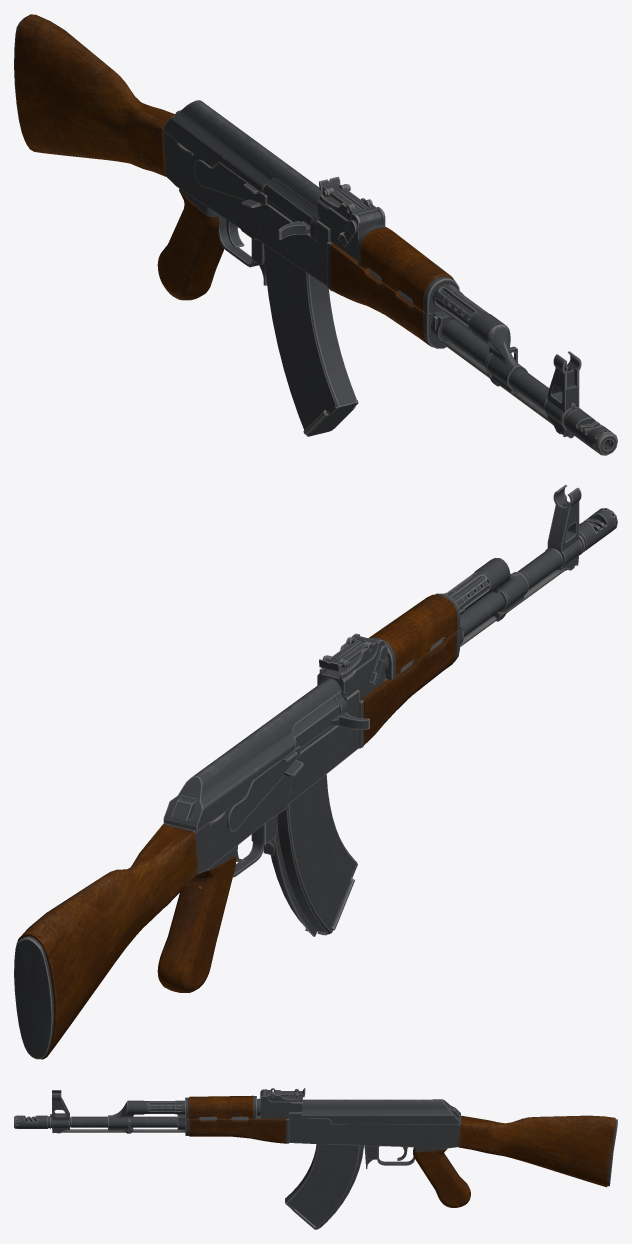
The picture shows the model from 3 angles, top to bottom: view 1: azimuth 30°, elevation 25°; view 2: azimuth 150°, elevation 25°; view 3: azimuth 270°, elevation 25°; orthographic projection. The views are drawn at different scales.
Parts seen in each view (by area): view 1: ak47, mag, bolt; view 2: ak47, mag, bolt; view 3: ak47, mag.
Boxes of the visible parts, x1=… form: ak47: x1=14, y1=14, x2=617, y2=455; mag: x1=264, y1=244, x2=358, y2=436; bolt: x1=262, y1=178, x2=317, y2=239; ak47: x1=14, y1=484, x2=617, y2=1059; mag: x1=270, y1=774, x2=357, y2=936; bolt: x1=292, y1=696, x2=369, y2=751; ak47: x1=14, y1=1088, x2=617, y2=1207; mag: x1=285, y1=1144, x2=364, y2=1229.
Size of the model in its own units: 6.19 by 23.7 by 94.4.
